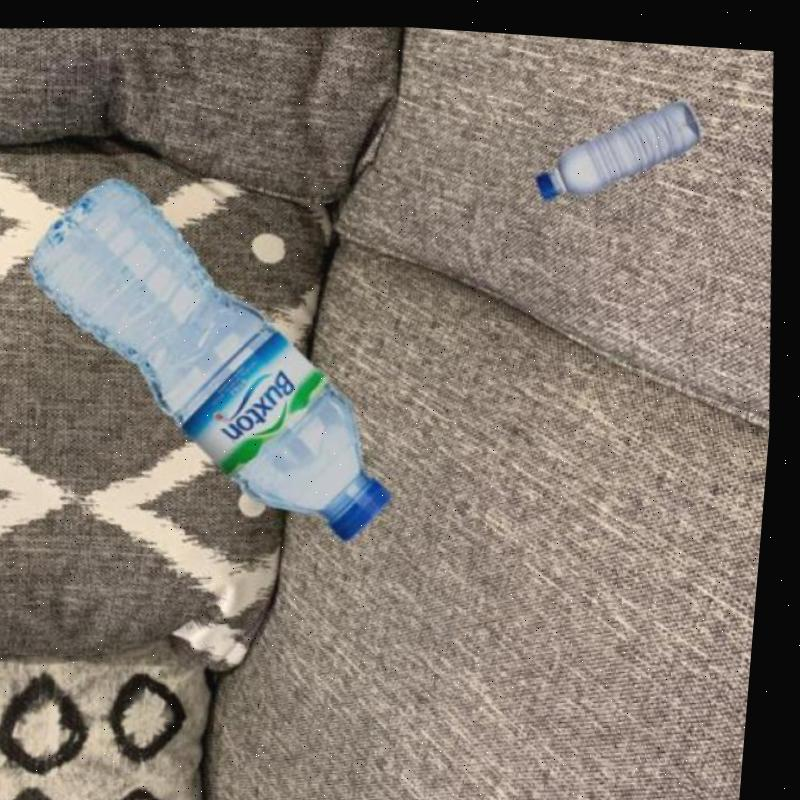botella: (8, 149, 424, 562), (527, 81, 709, 202)
